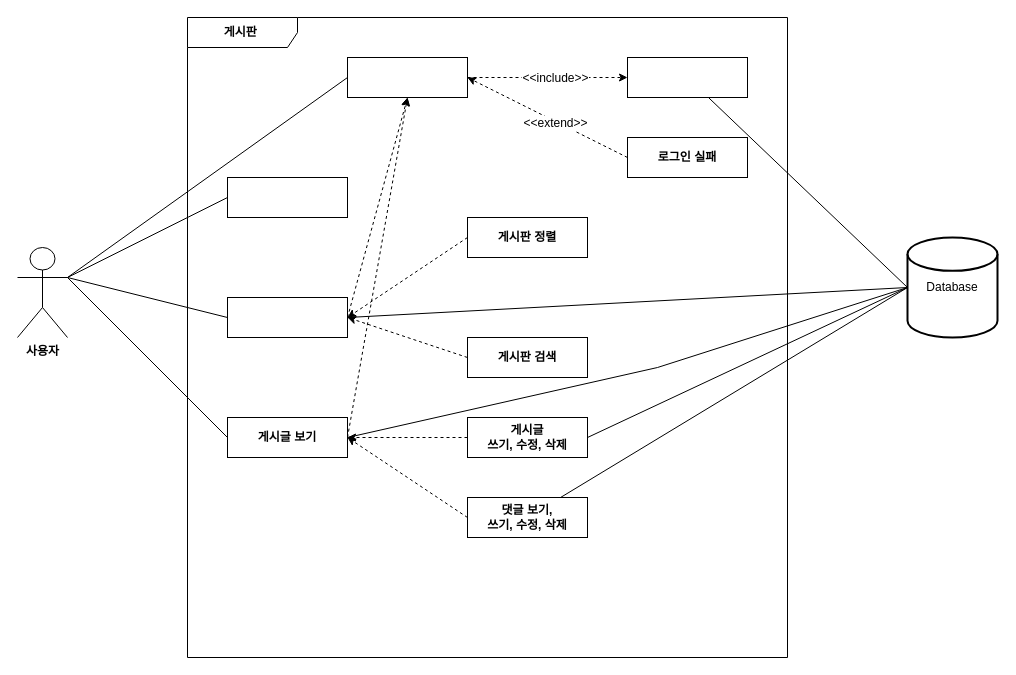
Some shapes in this 1016 by 675 pixel diagram are drawn without their labels. The shapes that lost their labels are listed below. From the top down, each one's box as (x1, y1, x2, y2) in pixels, then its label:
(346, 56, 468, 98): 회원 로그인
(626, 56, 748, 98): 인증
(226, 176, 348, 218): 회원 가입
(226, 296, 348, 338): 게시판 보기
